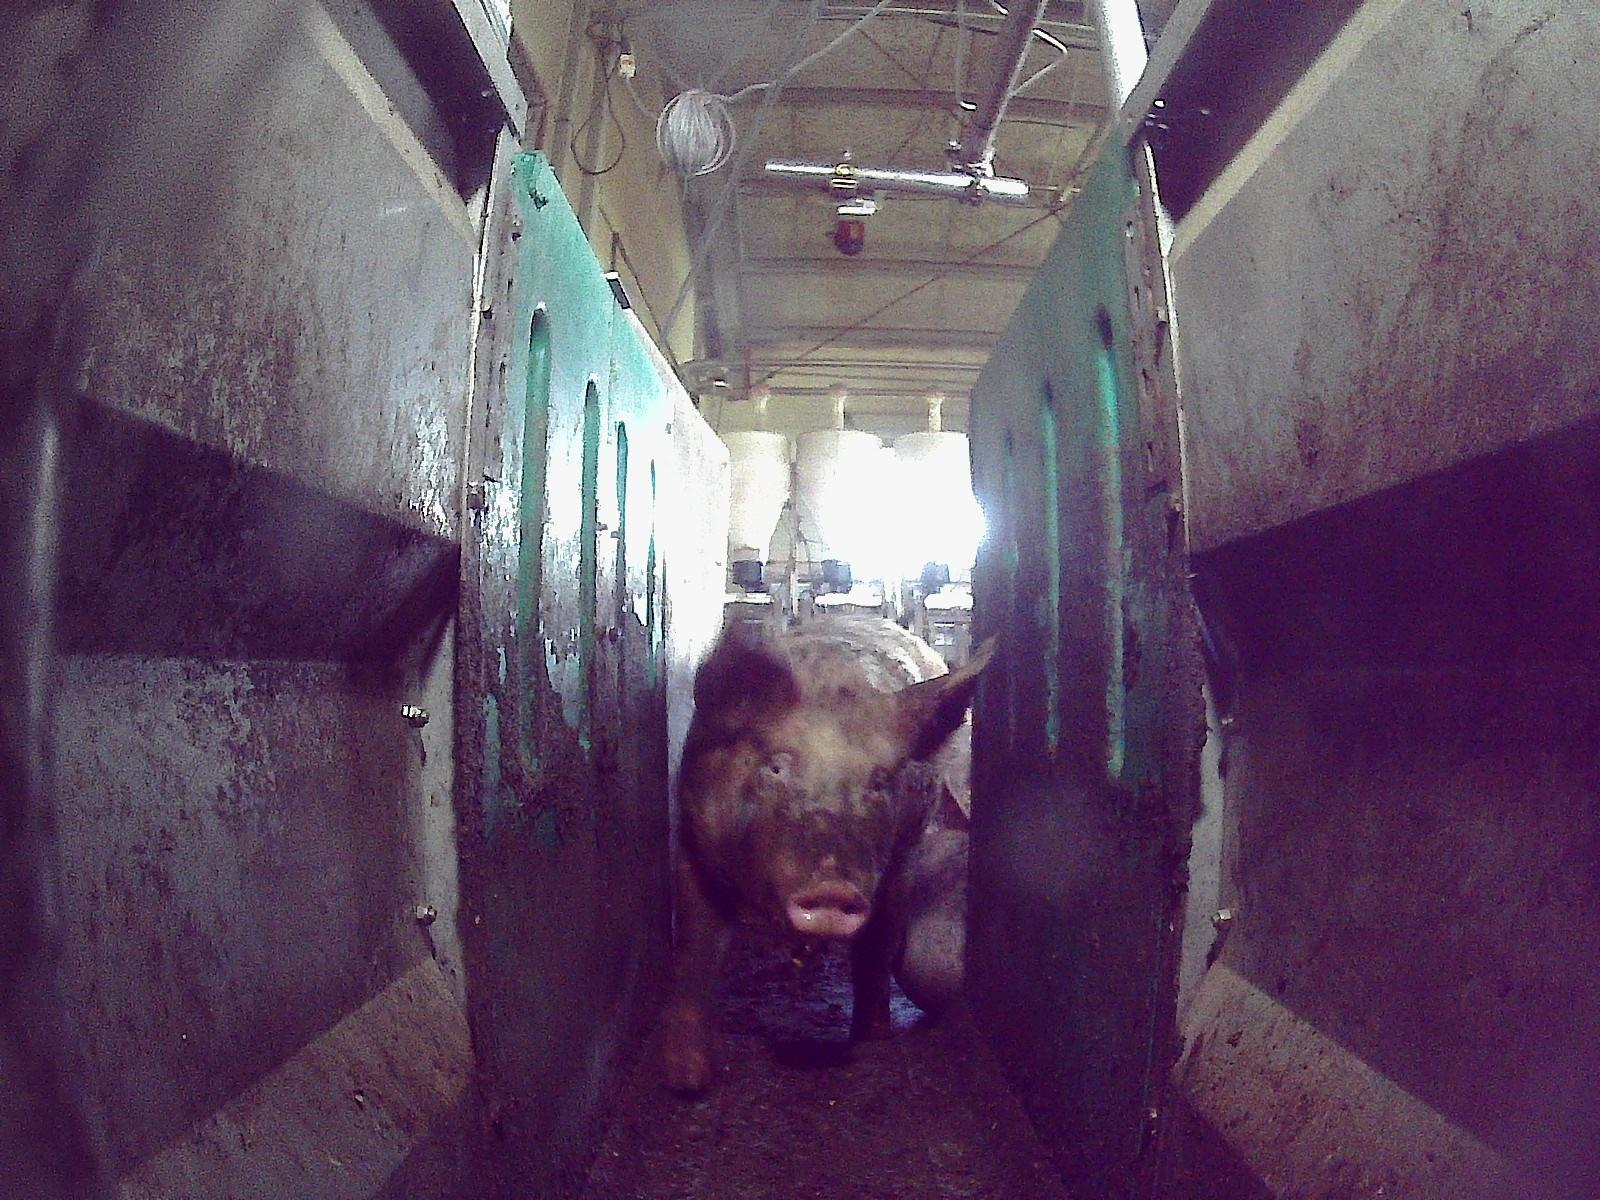Face: (741, 688, 901, 935)
